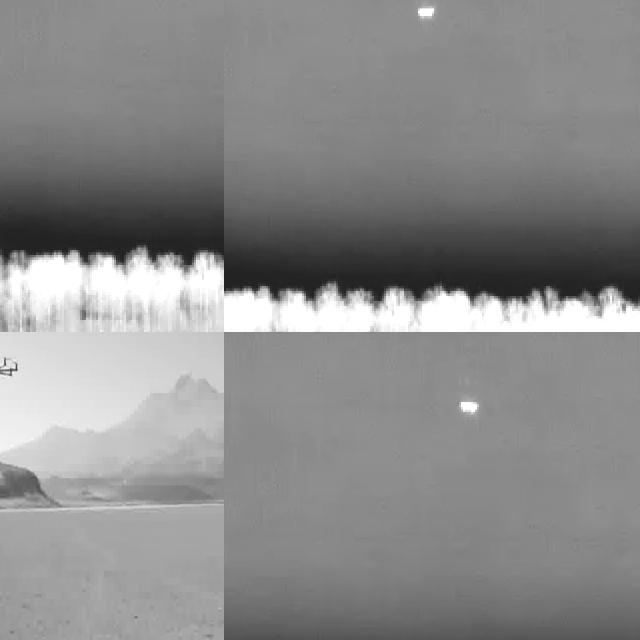1: (406, 0, 444, 32), (450, 396, 486, 426)
drone: (0, 350, 17, 406)
